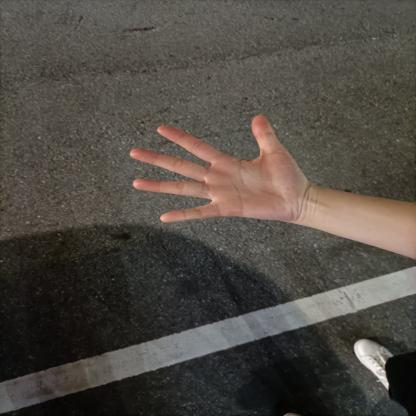bare_hand: (124, 108, 323, 233)
